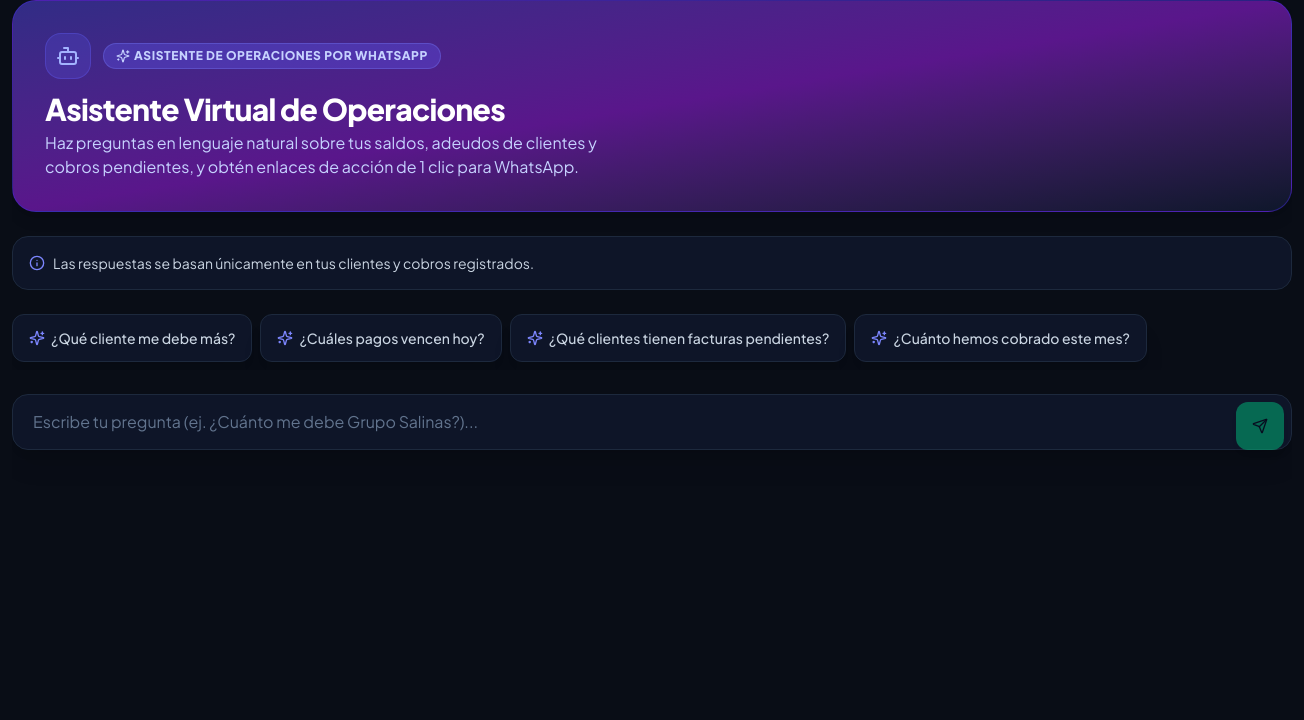
Test: a real tenant’s question is answered from their own records › says a failed question failed instead of leaving the feed blank
This screenshot has width=1304, height=720.
Type "¿Cuáles pagos vencen hoy?" into the field with placeholder "Escribe tu pregunta (ej. ¿Cuánto me debe Grupo Salinas?)..." at (652, 422), box [12,394,1292,450]
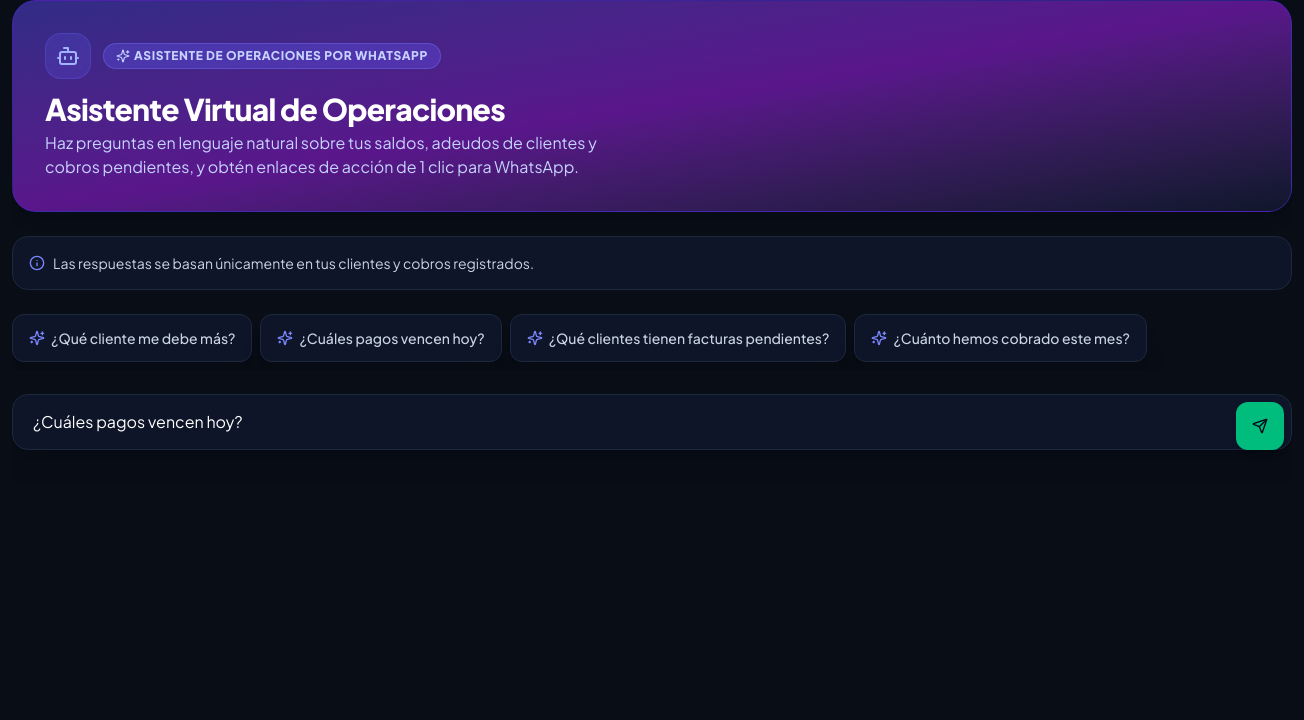
Click the button named "Enviar pregunta" at (1260, 426), box [1236,402,1284,450]
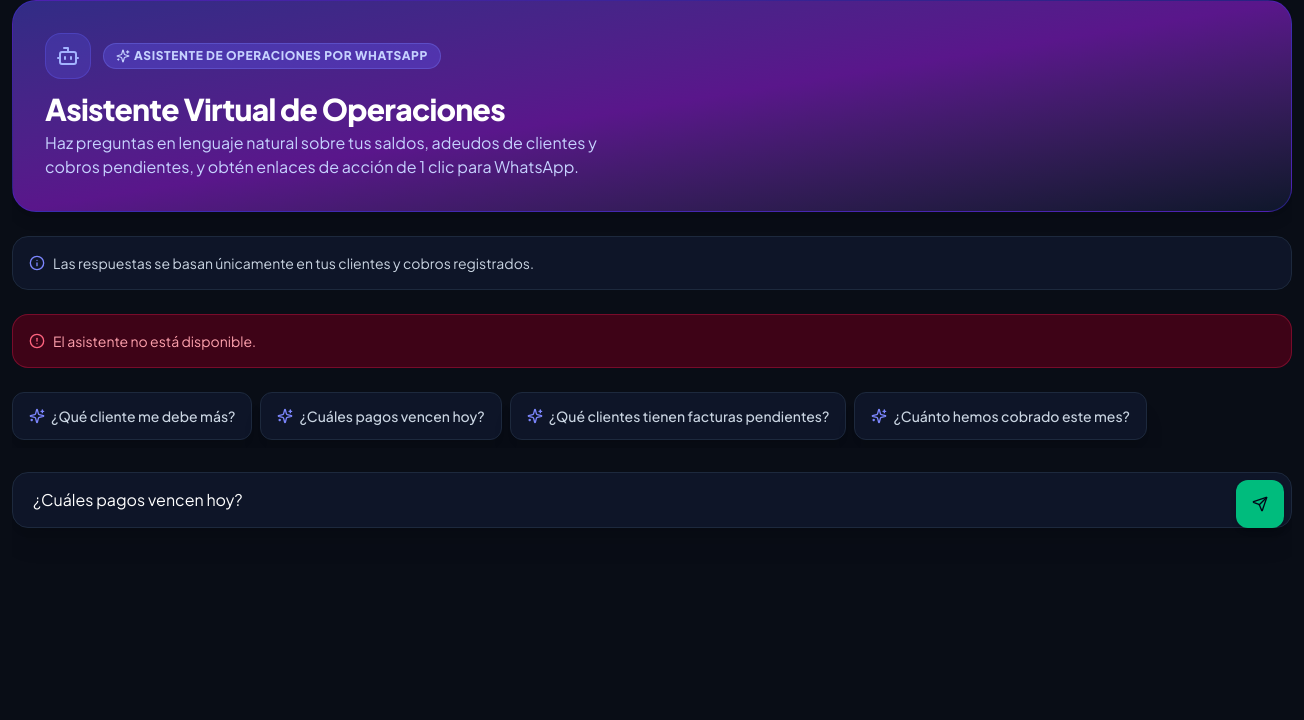
Expected: the text "Grupo Salinas" is not shown
Now the text "El asistente no está disponible." is shown, box [12,314,1292,368]
